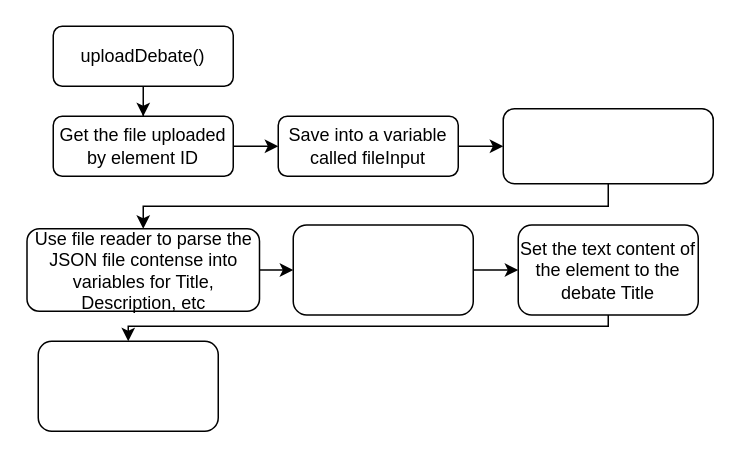
Some shapes in this 740 by 458 pixel diagram are drawn without their labels. Each missing label, with the centre of its shape:
Appened item to the container: pixel 127 385
Create a file reader object: pixel 607 145
Define variable for the debate list element: pixel 382 269
